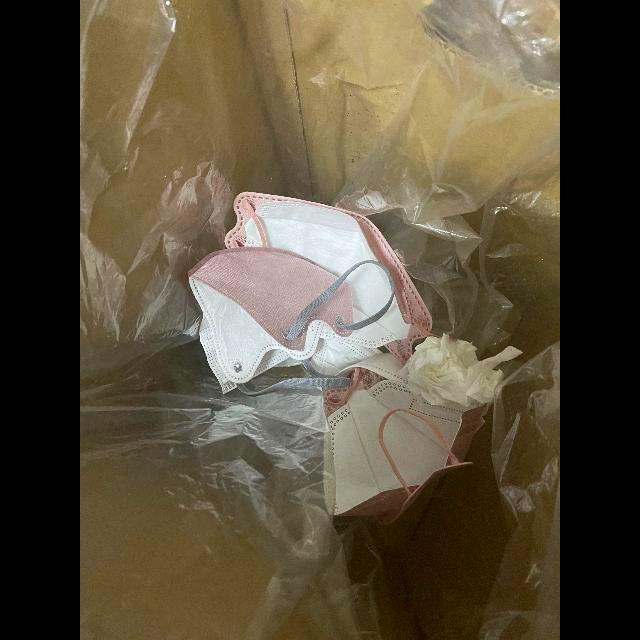paper: (408, 333, 523, 412)
